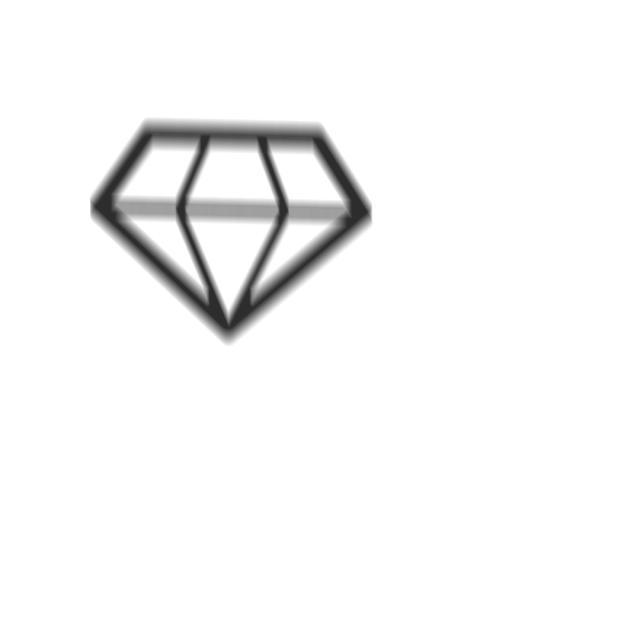diamond: (84, 111, 380, 355)
